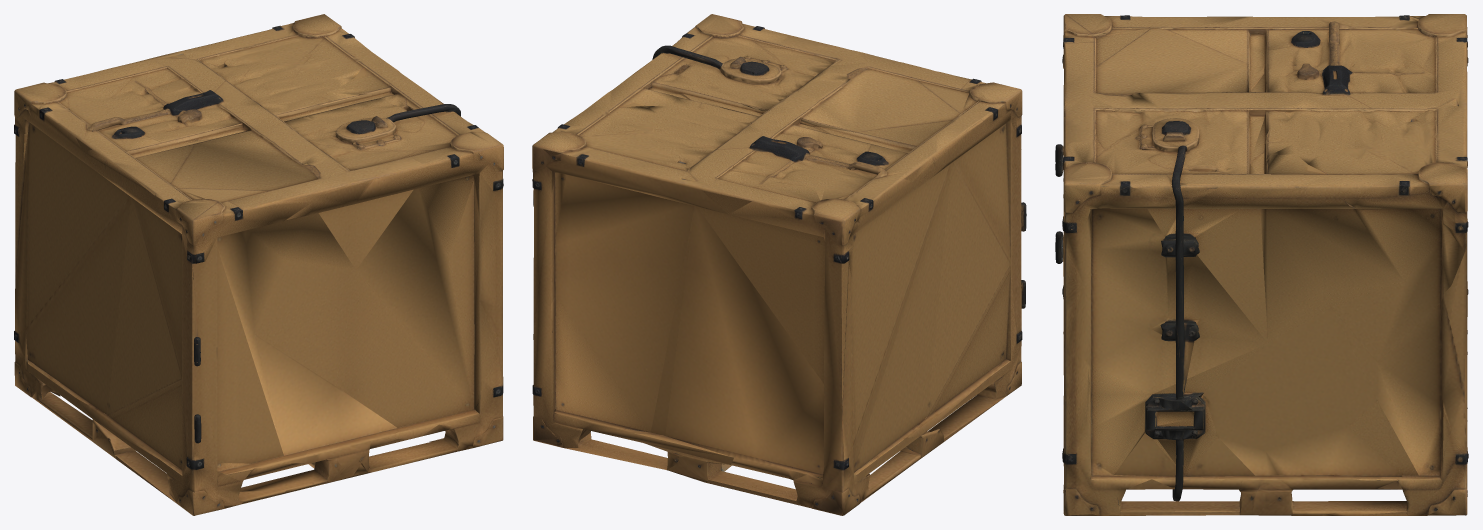
The model's file is crate.glb.
3 renders of one model, left to right at view 1: azimuth 30°, elevation 25°; view 2: azimuth 150°, elevation 25°; view 3: azimuth 270°, elevation 25°, orthographic. The views are drawn at different scales.
Visible parts, largest first — view 1: mesh_node; view 2: mesh_node; view 3: mesh_node.
Boxes of the visible parts, x1=… form: mesh_node: x1=14, y1=14, x2=503, y2=515; mesh_node: x1=532, y1=14, x2=1026, y2=515; mesh_node: x1=1055, y1=14, x2=1468, y2=515.
Size of the model in its own units: 0.66 by 0.6 by 0.6574.
Materials: 1 (1 with a texture image).
